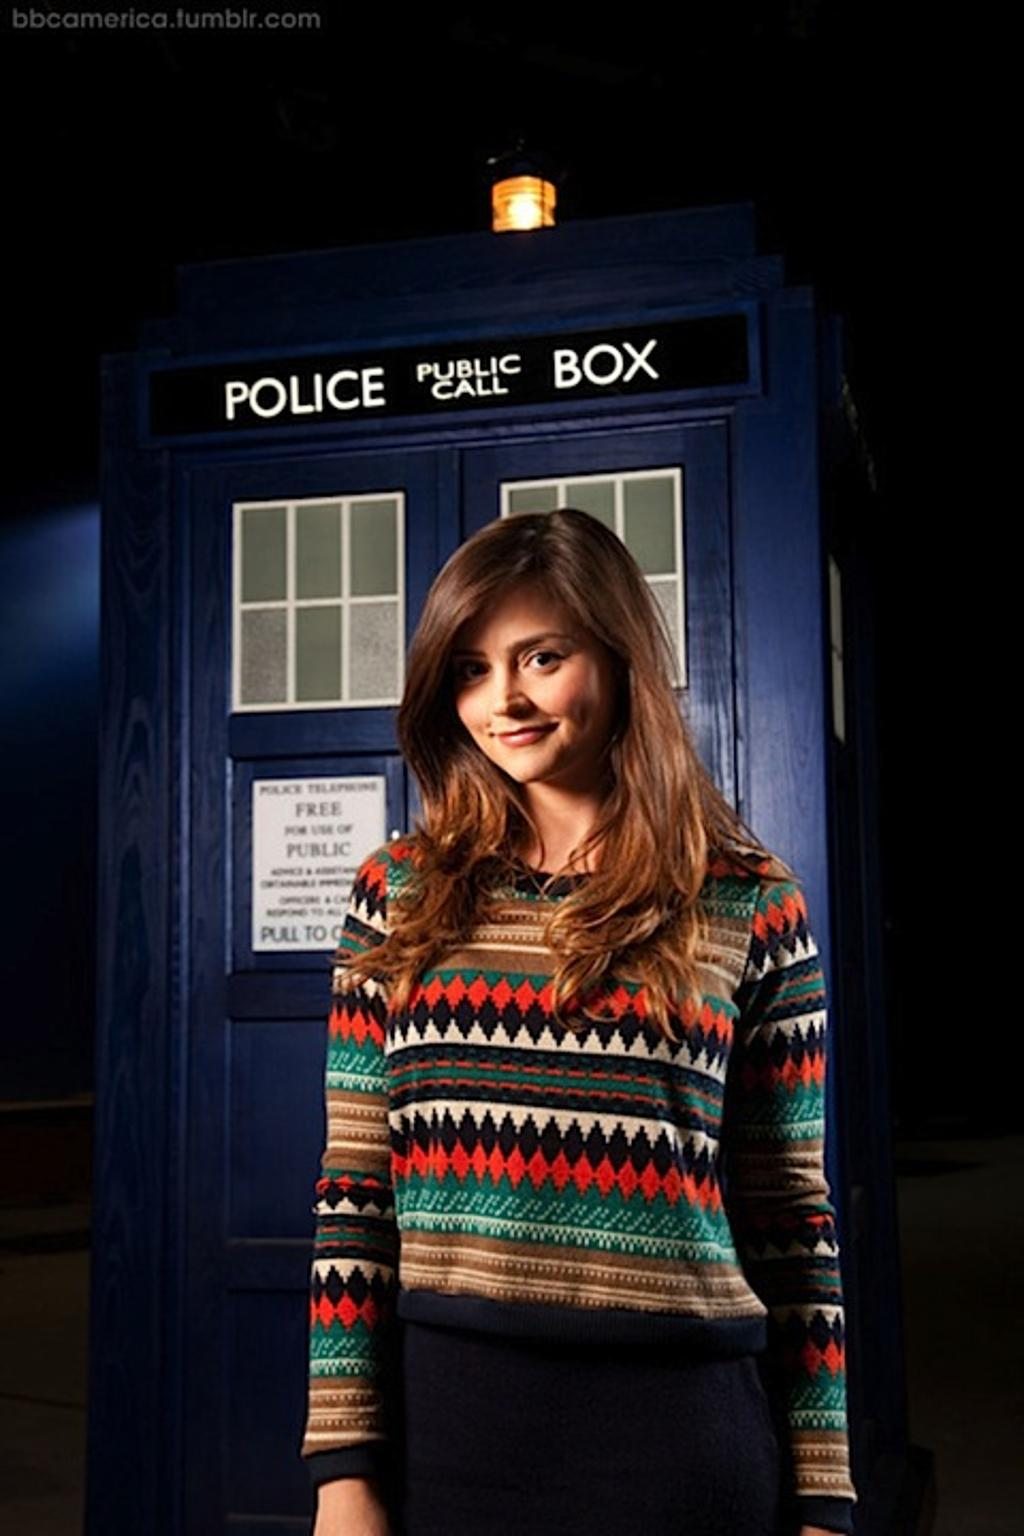face: (448, 581, 619, 776)
